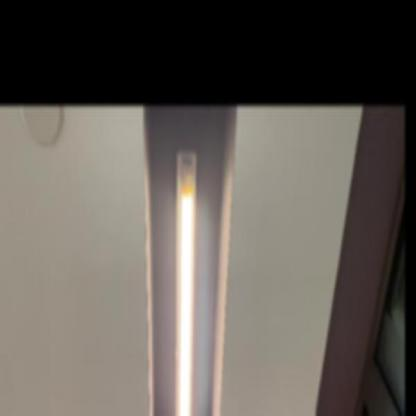light_on: (165, 141, 200, 414)
